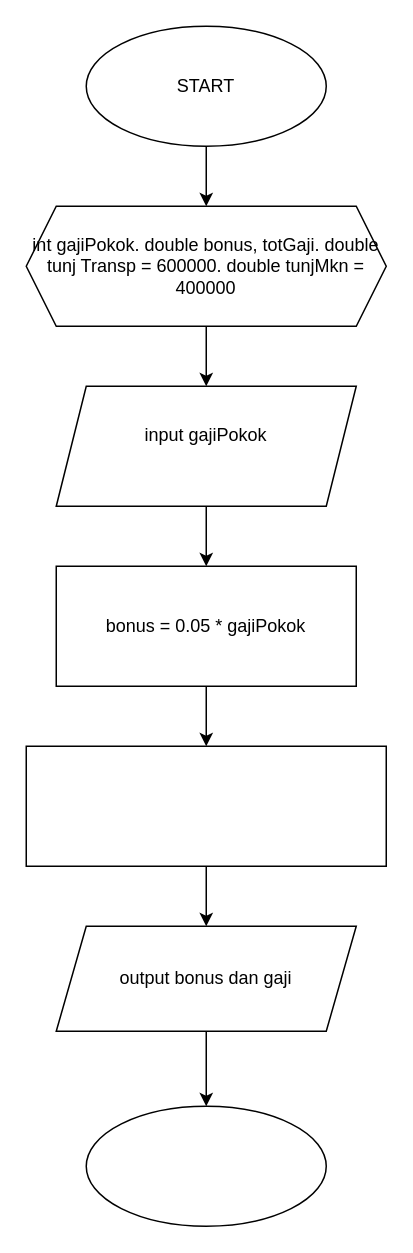
Image size: 413x1253. Some labels were removed from this diagram. Each missing label, with the centre of its shape:
END: the point at 205,1165
totalGaji = gajiPokok + tunjTransp + tunjMkn + bonus - (0.1 * gajiPokok): the point at 205,805
